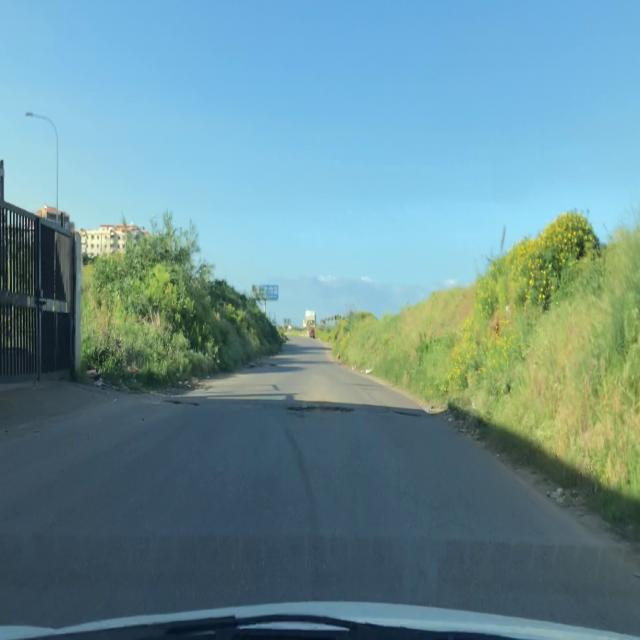Pothole: (284, 404, 359, 418), (159, 396, 200, 410), (392, 405, 423, 420), (246, 360, 278, 370)
